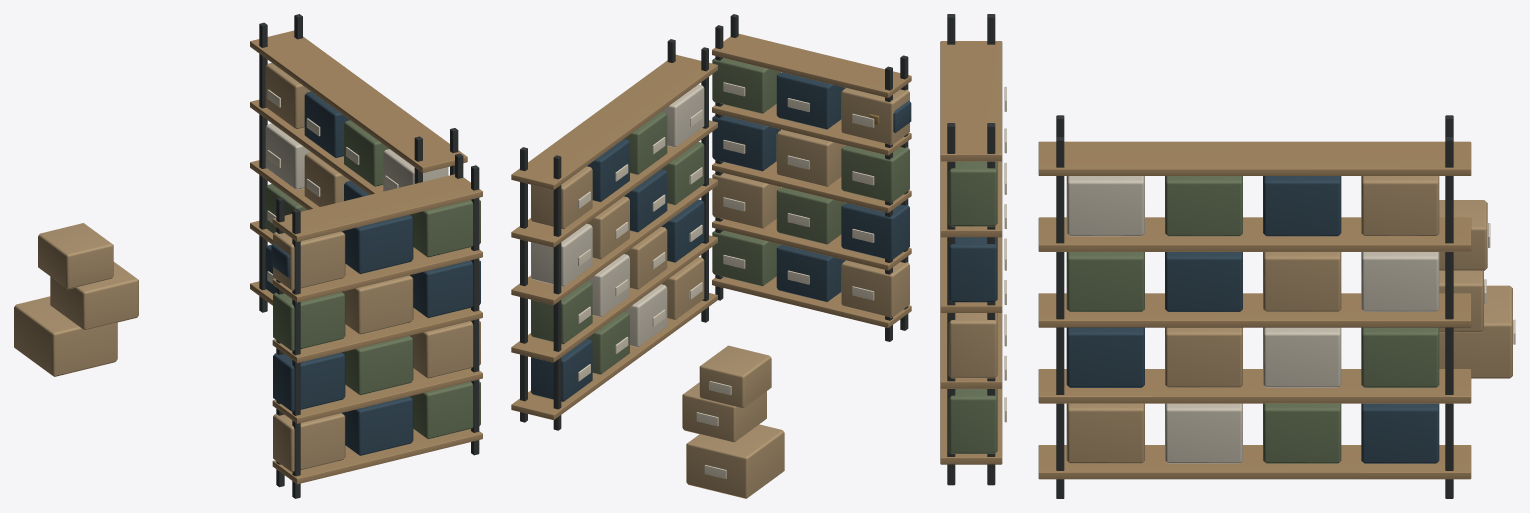
Rendered from storage-furniture-v002.glb.
The picture shows the model from 3 angles, left to right: view 1: azimuth 30°, elevation 25°; view 2: azimuth 150°, elevation 25°; view 3: azimuth 270°, elevation 25°; orthographic projection. The views are drawn at different scales.
Visible parts, largest first — view 1: Export East rack upright; view 2: Export East rack upright; view 3: Export East rack upright.
Boxes of the visible parts, x1=… form: Export East rack upright: x1=14, y1=14, x2=482, y2=498; Export East rack upright: x1=511, y1=14, x2=911, y2=498; Export East rack upright: x1=940, y1=14, x2=1515, y2=498.
Size of the model in its own units: 2.11 by 2.19 by 3.16.
